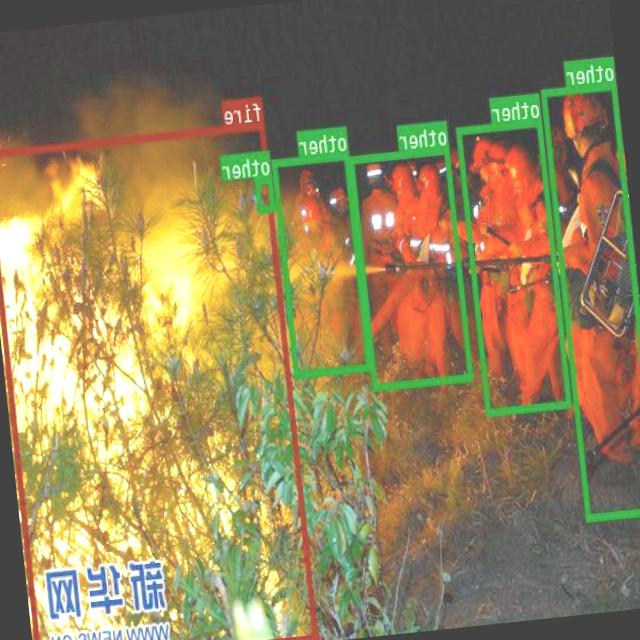fire: (0, 119, 318, 640)
